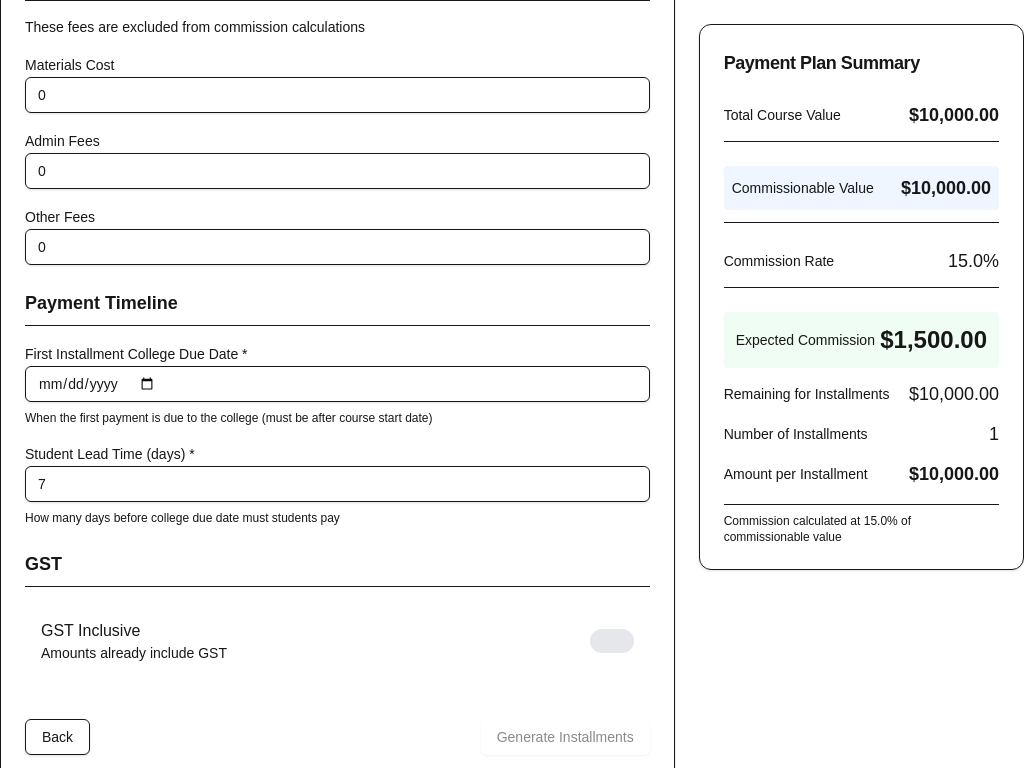
Test: PaymentPlanWizardStep2 › Student Due Date Preview › displays student due date preview when college due date and lead time are set
The image size is (1024, 768).
(page scrolled)
// Set first college due date
Type "2025-03-15" into the date field labelled "First Installment College Due Date *" at (337,384), box [25,366,650,402]
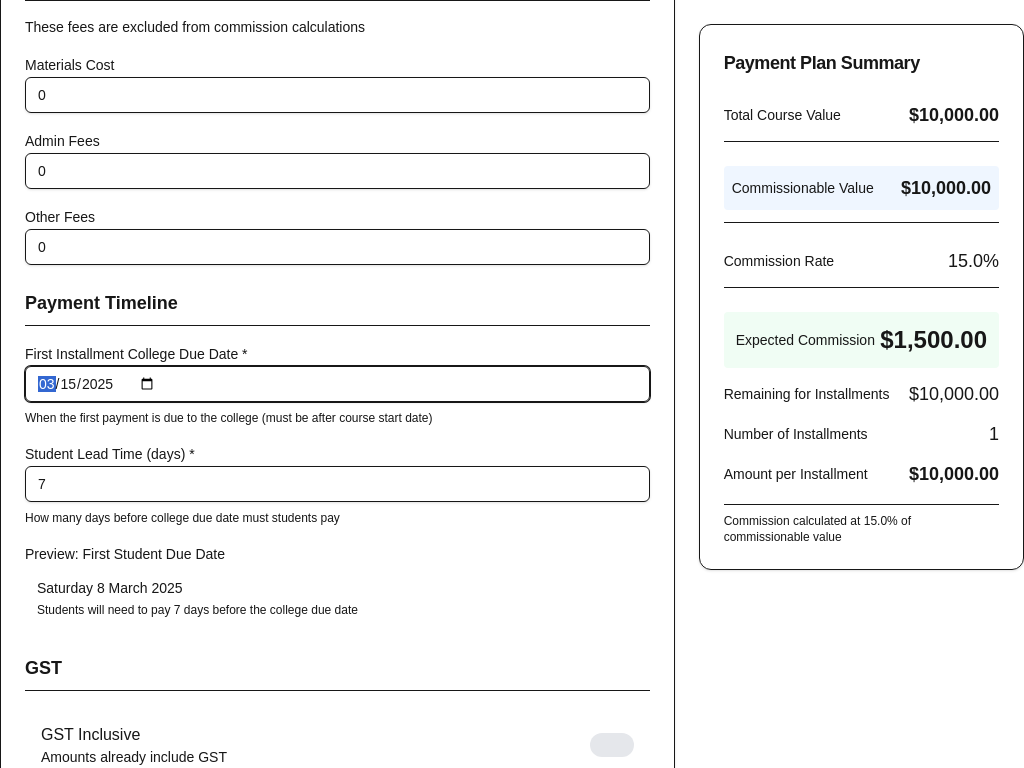
Now the text "Preview: First Student Due Date" is shown, box [25,546,225,562]
